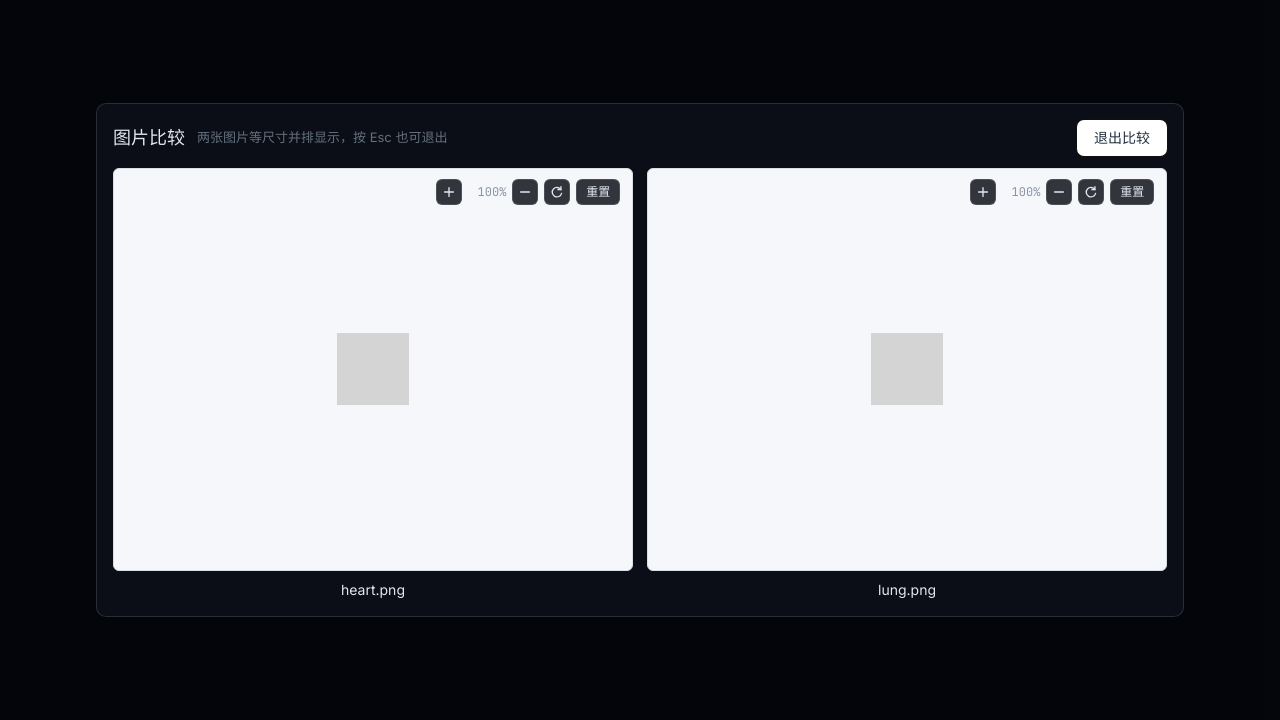
CompareView: 窗格独立变换（CR-009 T-003 / R-024） › transforms each pane independently via its own controls
Expected: the 1st button named "缩小" is shown, [512,179,538,205]
Expected: the 1st button named "旋转 90 度" is shown, [544,179,570,205]
// 左侧放大：仅左侧舞台变换，右侧保持恒等
Click the 1st button named "放大": click(449, 192) [436,179,462,205]
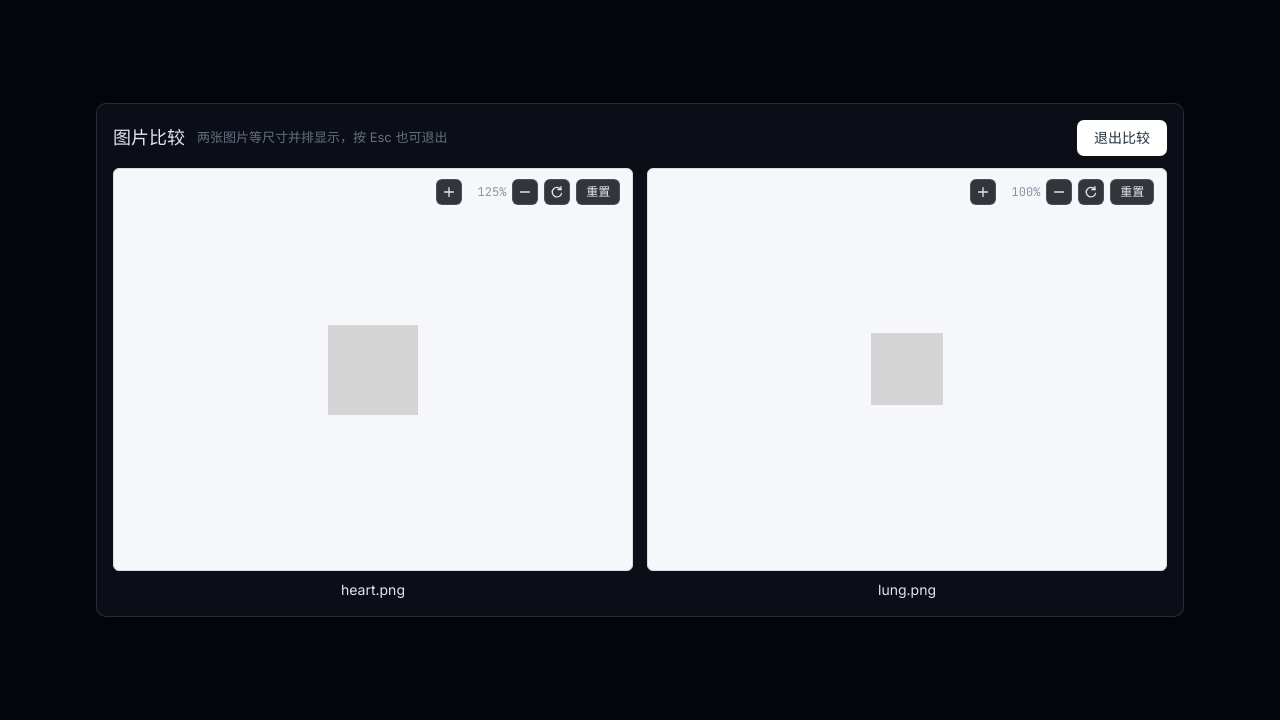
Expected: the text with class "image-viewport__zoom" reads "100%", [1012,184,1040,200]
Expected: the text with class "image-viewport__zoom" reads "125%", [478,184,506,200]
